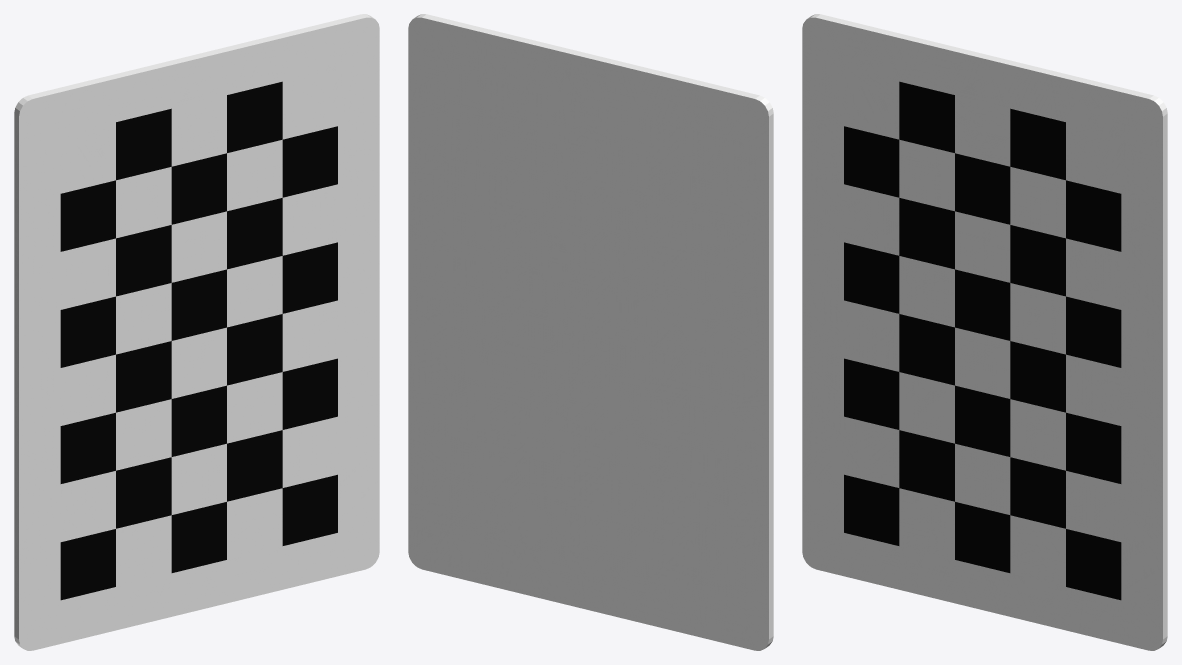
Rendered from checkerboard_horizontal.dae.
3 renders of one model, left to right at view 1: azimuth 30°, elevation 25°; view 2: azimuth 150°, elevation 25°; view 3: azimuth 330°, elevation 25°, orthographic.
Parts seen in each view (by area): view 1: node; view 2: node; view 3: node.
Boxes of the visible parts, <box> form: node: <box>14,14,379,650</box>; node: <box>408,14,773,650</box>; node: <box>802,14,1167,650</box>.
Size of the model in its own units: 0.13 by 0.19 by 0.003.
1 material, 1 textured.
